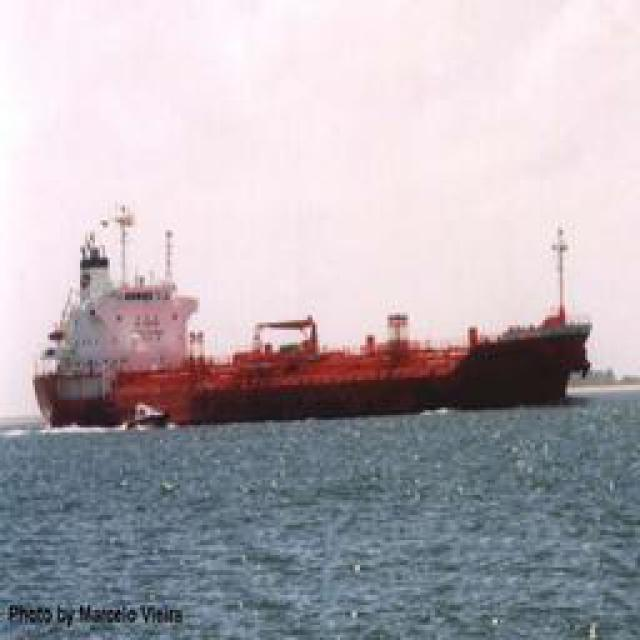Ship: (27, 214, 597, 429)
